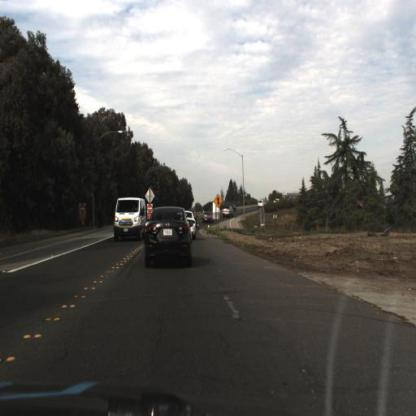car: (142, 206, 192, 269), (115, 196, 149, 243), (222, 204, 238, 225), (201, 209, 216, 230)
